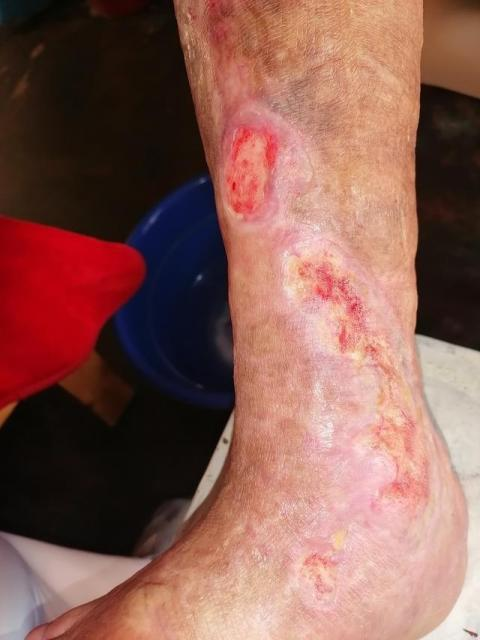wound: (285, 238, 442, 545), (223, 110, 311, 233), (291, 530, 348, 612)
